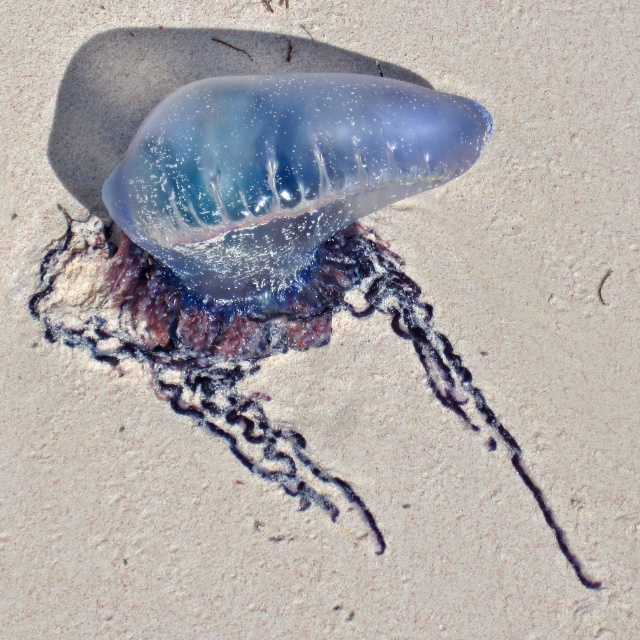Jellyfish: (75, 74, 429, 378)
